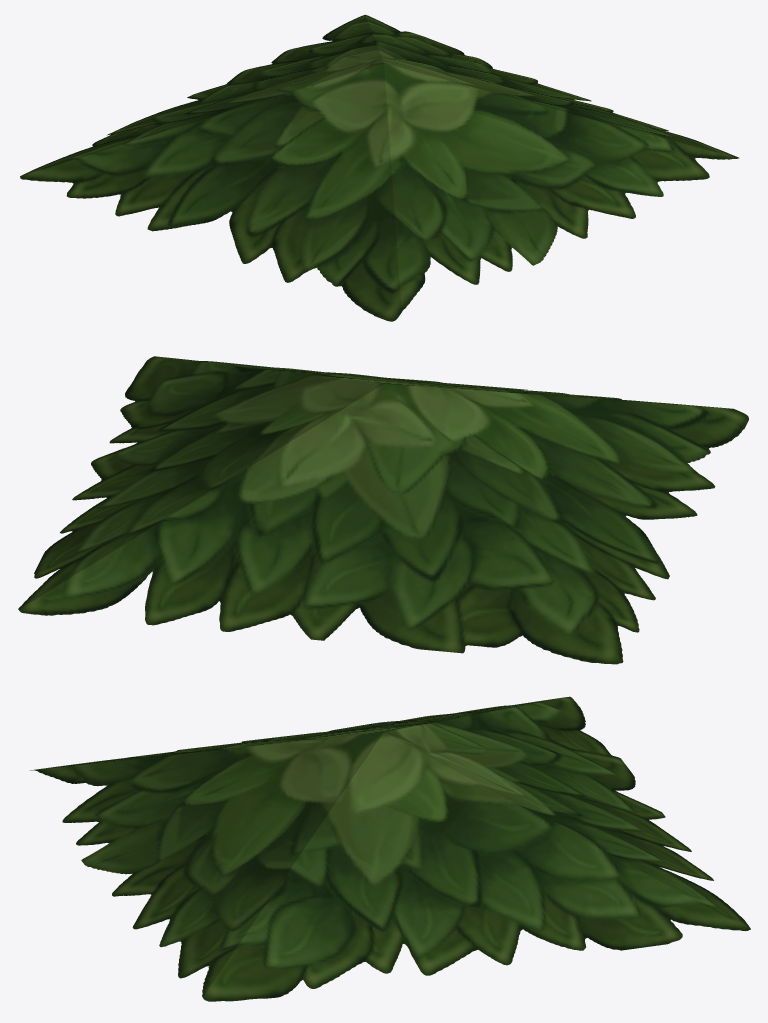
The model's file is fanasty_mod_shrub03.fbx.
3 views of the same model, one above another, from view 1: azimuth 30°, elevation 25°; view 2: azimuth 150°, elevation 25°; view 3: azimuth 270°, elevation 25° (orthographic). The views are drawn at different scales.
Parts seen in each view (by area): view 1: shrub_03; view 2: shrub_03; view 3: shrub_03.
Boxes of the visible parts, <box> form: shrub_03: <box>20,14,739,321</box>; shrub_03: <box>18,356,748,664</box>; shrub_03: <box>30,696,750,1001</box>.
Bounding box in the file's own units: 1.72 × 0.3083 × 1.72.
